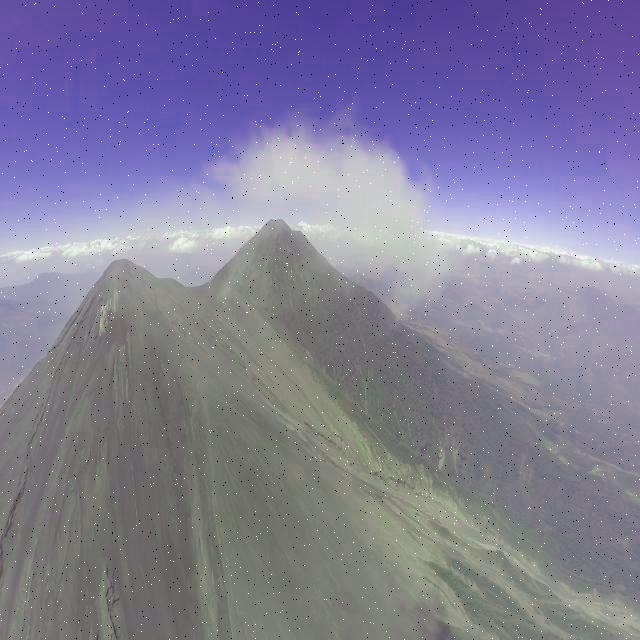Plume: (209, 117, 453, 338)
Summit: (51, 251, 186, 348)
